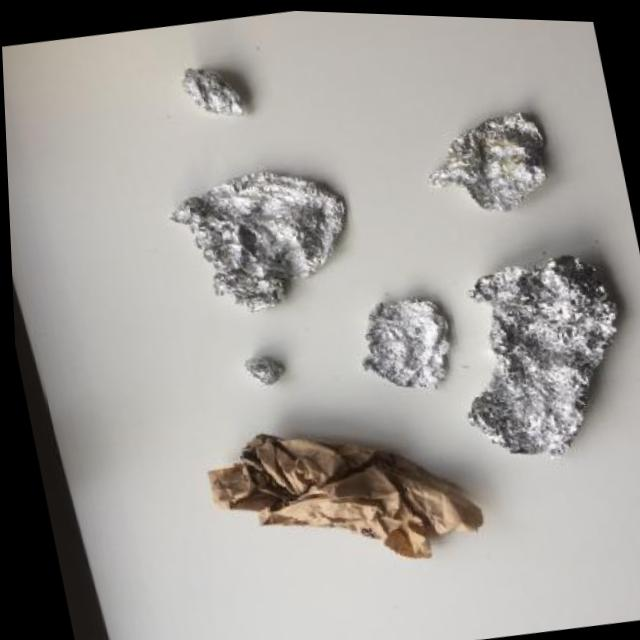metal: (436, 239, 640, 475), (160, 155, 369, 328), (415, 105, 560, 227), (348, 288, 464, 401), (178, 59, 247, 125), (240, 347, 289, 392)
paper: (197, 398, 492, 594)
